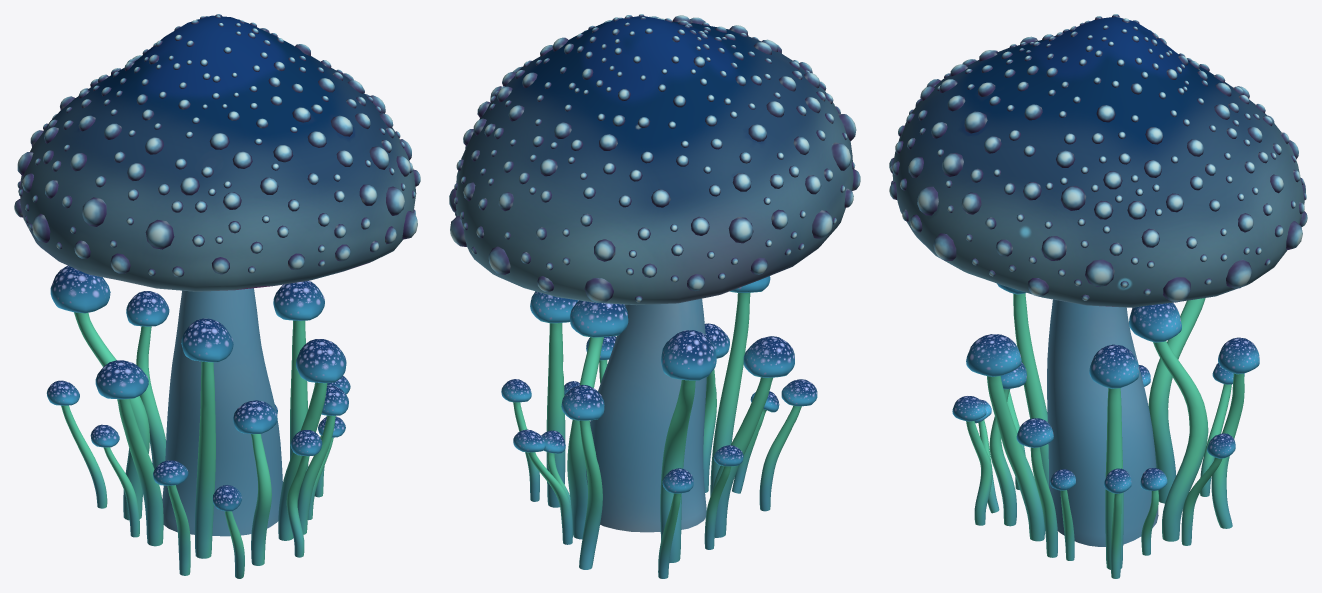
File: mushroom02.fbx
The picture shows the model from 3 angles, left to right: view 1: azimuth 30°, elevation 25°; view 2: azimuth 150°, elevation 25°; view 3: azimuth 270°, elevation 25°; orthographic projection.
Visible parts, largest first — view 1: mushroom, small mushrooms; view 2: mushroom, small mushrooms; view 3: mushroom, small mushrooms.
Part boxes in pixels (<box>): mushroom: <box>14,14,420,536</box>; small mushrooms: <box>46,265,350,578</box>; mushroom: <box>449,14,860,532</box>; small mushrooms: <box>501,276,817,578</box>; mushroom: <box>889,14,1307,546</box>; small mushrooms: <box>952,283,1259,578</box>.
Bounding box in the file's own units: 0.6339 × 0.8547 × 0.642.
Materials: 2 (2 with a texture image).
